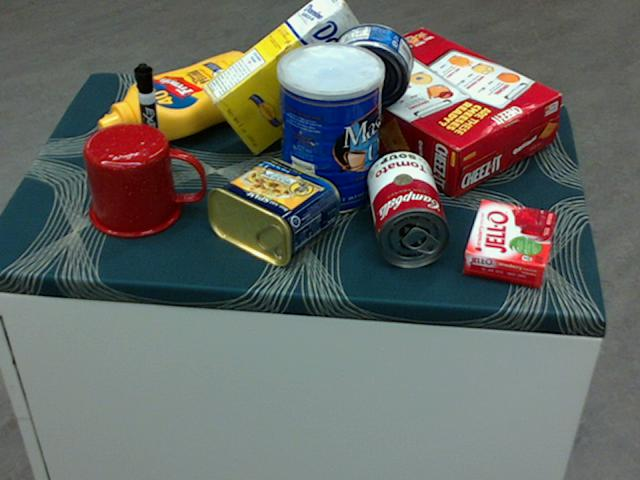cracker_box: (319, 26, 559, 198)
gelatin_box: (463, 199, 553, 285)
large_marker: (132, 63, 164, 171)
master_chef_can: (276, 43, 383, 216)
mug: (83, 122, 204, 238)
mustard_bottle: (96, 51, 269, 141)
potted_meat_can: (205, 157, 338, 266)
sugar_box: (199, 0, 380, 156)
tomato_soup_can: (368, 150, 448, 266)
tuna_fish_can: (328, 22, 413, 107)
